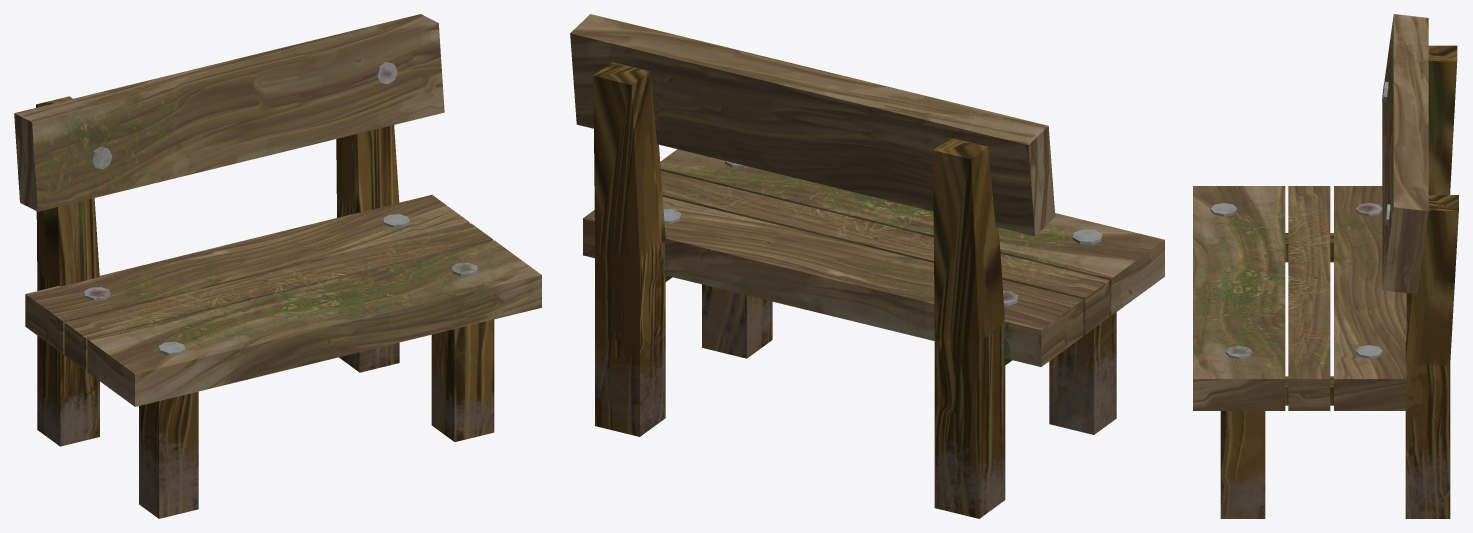
The model's file is benchGLB.glb.
3 renders of one model, left to right at view 1: azimuth 30°, elevation 25°; view 2: azimuth 150°, elevation 25°; view 3: azimuth 270°, elevation 25°, orthographic. The views are drawn at different scales.
Visible parts, largest first — view 1: pCube10, pCube5, pCube7, pCube4, pCube6, pCube2, pCube1, pCube3; view 2: pCube10, pCube7, pCube4, pCube3, pCube5, pCube6, pCube1, pCube2; view 3: pCube5, pCube3, pCube7, pCube10, pCube6, pCube2, pCube4.
Part boxes in pixels (x1,y1,x2,y2): pCube10: (14,14,444,211); pCube5: (87,240,541,406); pCube7: (25,195,469,353); pCube4: (36,96,99,446); pCube6: (64,223,492,370); pCube2: (431,319,494,441); pCube1: (139,391,198,518); pCube3: (336,125,399,372); pCube10: (570,14,1055,236); pCube7: (583,197,1083,366); pCube4: (933,137,1005,518); pCube3: (593,62,665,436); pCube5: (660,149,1164,315); pCube6: (661,170,1109,334); pCube1: (1049,312,1116,434); pCube2: (702,284,772,358); pCube5: (1193,186,1285,410); pCube3: (1405,195,1458,518); pCube7: (1334,186,1406,410); pCube10: (1382,14,1428,293); pCube6: (1288,186,1330,410); pCube2: (1220,411,1265,518); pCube4: (1406,45,1457,333).
Size of the model in its own units: 1.8 by 1.42 by 1.04.
1 material, 1 textured.
